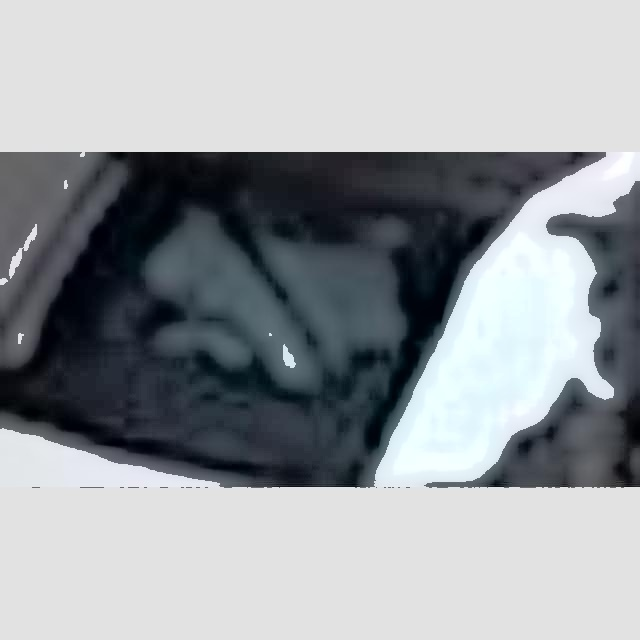pakai: (156, 183, 414, 417)
